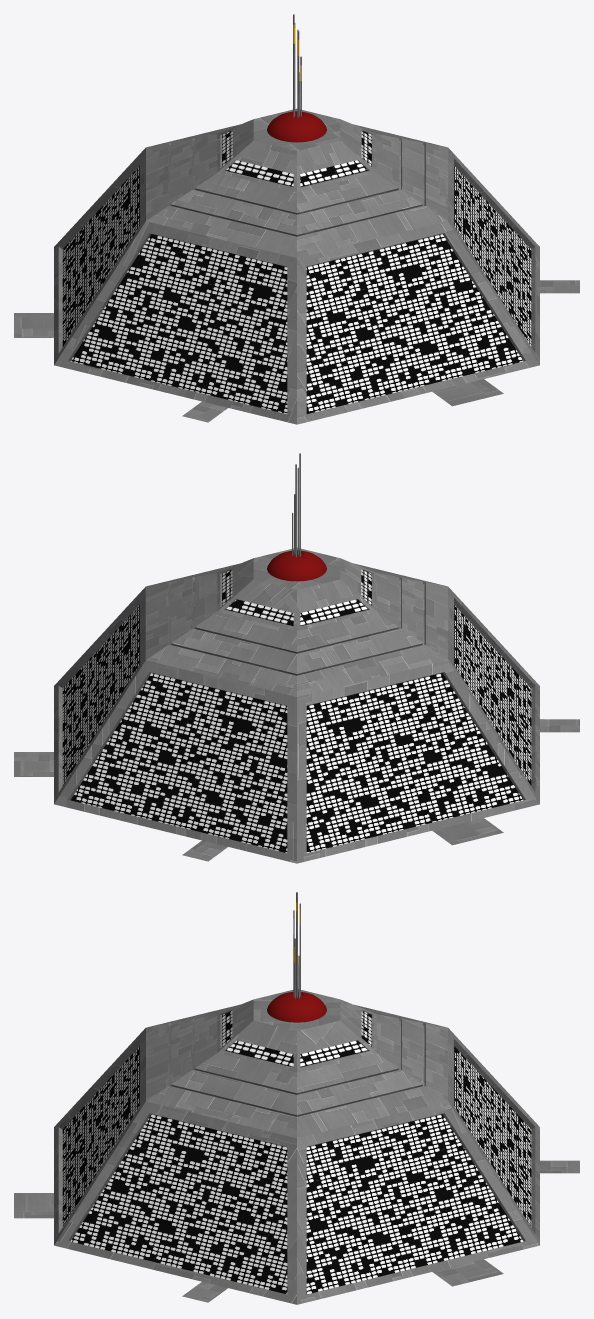
File: cabina_estacion.obj
The picture shows the model from 3 angles, top to bottom: view 1: azimuth 30°, elevation 25°; view 2: azimuth 150°, elevation 25°; view 3: azimuth 270°, elevation 25°; orthographic projection.
Visible parts, largest first — view 1: cabina_estacion; view 2: cabina_estacion; view 3: cabina_estacion.
Boxes of the visible parts, x1=… form: cabina_estacion: x1=14, y1=14, x2=579, y2=424; cabina_estacion: x1=14, y1=453, x2=579, y2=863; cabina_estacion: x1=14, y1=892, x2=579, y2=1304.
Bounding box in the file's own units: 27.47 × 15.72 × 27.6.
5 materials, 3 textured.
